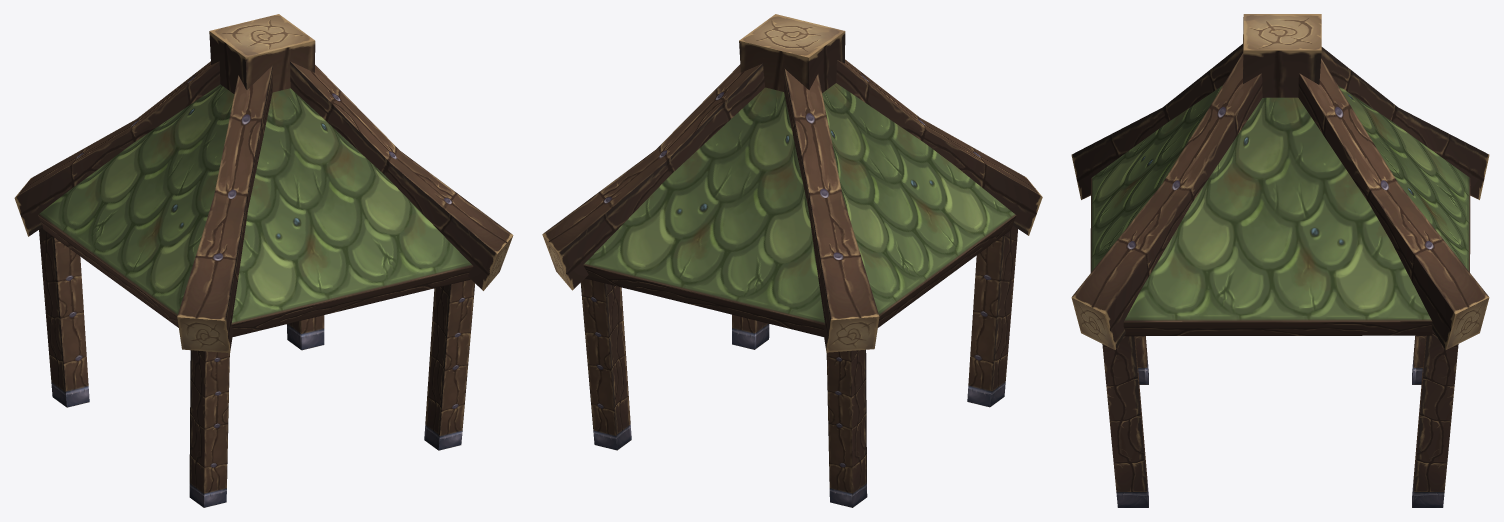
File: small_roof_01.fbx
The picture shows the model from 3 angles, left to right: view 1: azimuth 30°, elevation 25°; view 2: azimuth 150°, elevation 25°; view 3: azimuth 270°, elevation 25°; orthographic projection. The views are drawn at different scales.
Visible parts, largest first — view 1: small_roof_01; view 2: small_roof_01; view 3: small_roof_01.
Part boxes in pixels (<box>): small_roof_01: <box>14,14,513,507</box>; small_roof_01: <box>542,14,1042,507</box>; small_roof_01: <box>1071,14,1489,507</box>.
Size of the model in its own units: 8.99 by 9.79 by 9.01.
